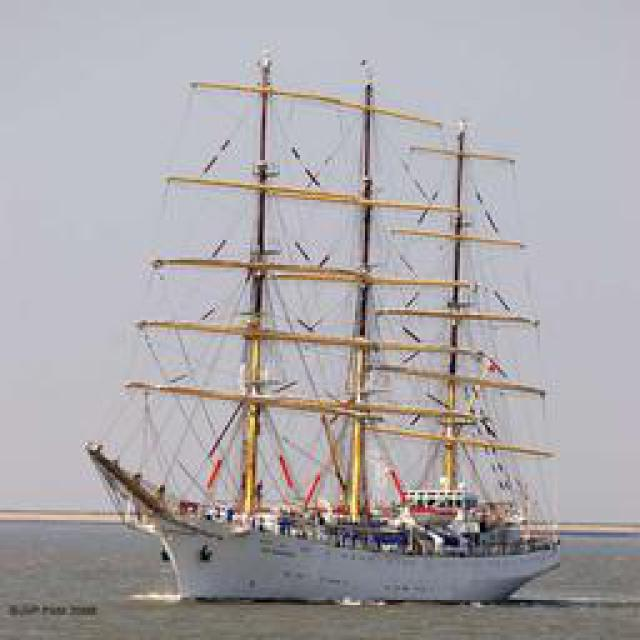Ship: (88, 65, 566, 603)
